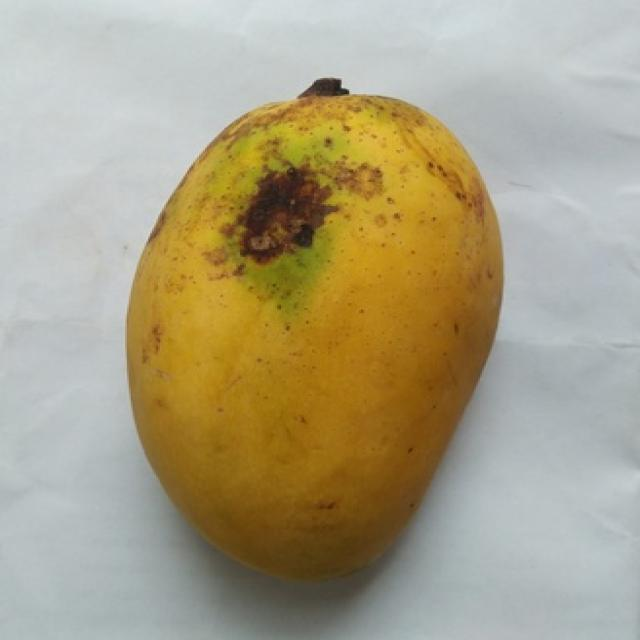Mango: (127, 86, 501, 575)
